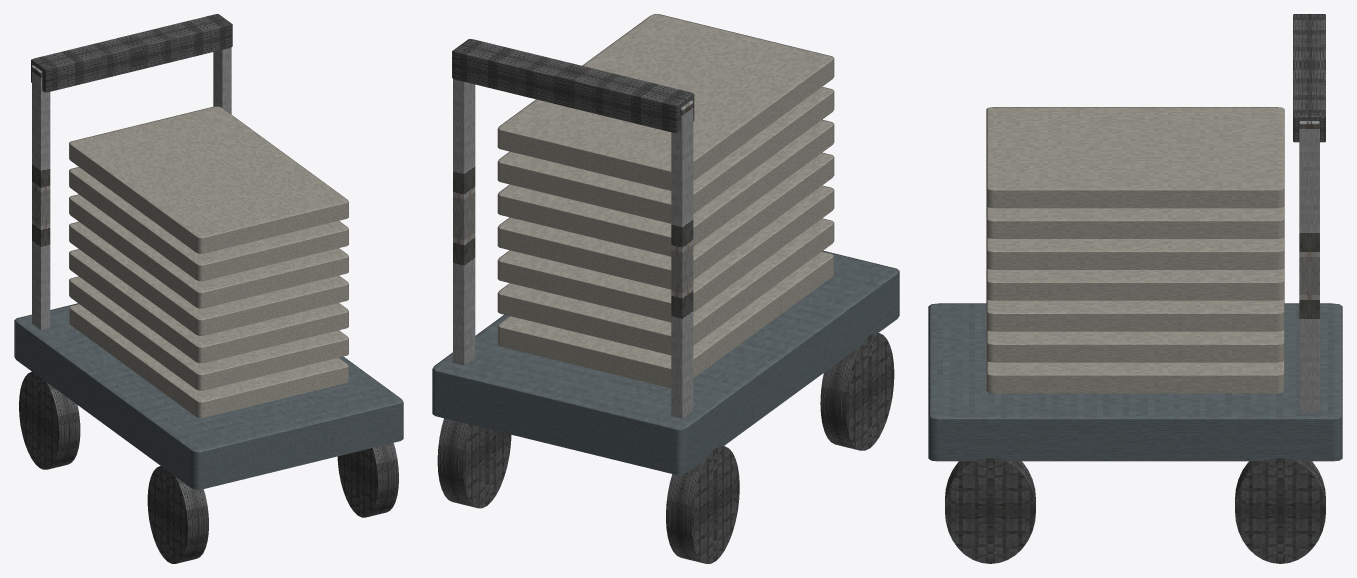
File: chair-cart.glb
3 views of the same model, side by side, from view 1: azimuth 30°, elevation 25°; view 2: azimuth 150°, elevation 25°; view 3: azimuth 270°, elevation 25° (orthographic). The views are drawn at different scales.
Parts seen in each view (by area): view 1: folded-chair (×7), deck, caster (×3), handle, upright (×2); view 2: folded-chair (×7), deck, caster (×3), upright (×2), handle; view 3: folded-chair (×7), deck, caster (×2), upright, handle.
Boxes of the visible parts, left/top/right/bottom form: folded-chair (×7): left=69, top=106, right=348, bottom=418; deck: left=14, top=303, right=403, bottom=489; caster (×3): left=19, top=371, right=398, bottom=563; handle: left=31, top=14, right=232, bottom=92; upright (×2): left=32, top=47, right=231, bottom=329; folded-chair (×7): left=497, top=14, right=834, bottom=387; deck: left=432, top=250, right=899, bottom=474; caster (×3): left=437, top=333, right=894, bottom=563; upright (×2): left=453, top=79, right=693, bottom=418; handle: left=452, top=39, right=694, bottom=133; folded-chair (×7): left=986, top=107, right=1284, bottom=393; deck: left=928, top=303, right=1342, bottom=461; caster (×2): left=945, top=458, right=1325, bottom=563; upright: left=1299, top=121, right=1319, bottom=412; handle: left=1293, top=14, right=1325, bottom=142.
Size of the model in its own units: 0.61 by 1.08 by 0.92.
Materials: 4 (4 with a texture image).
